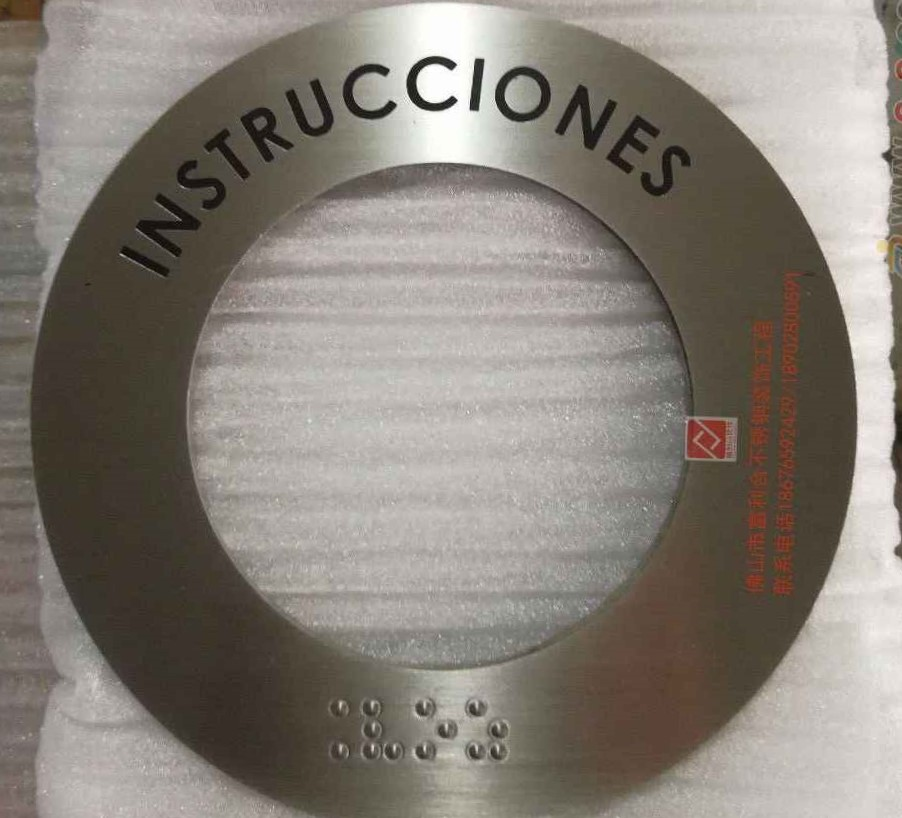Braille: (361, 696, 404, 764), (413, 697, 458, 761), (466, 698, 511, 762), (308, 695, 350, 762)
